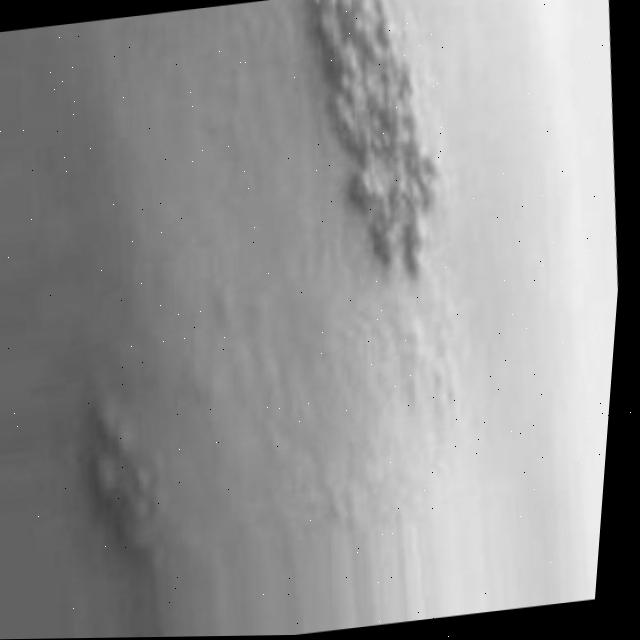Shingles: (282, 0, 470, 293), (70, 384, 181, 576)
